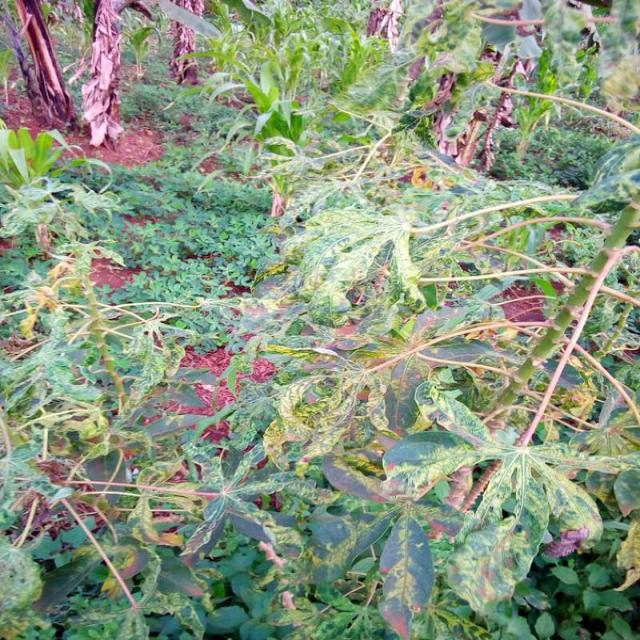cassava leaf: (1, 1, 638, 638), (377, 513, 435, 638)
